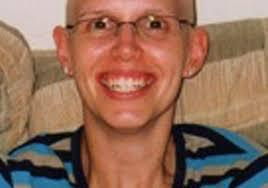strokeEyeWeak: (78, 10, 173, 38)
